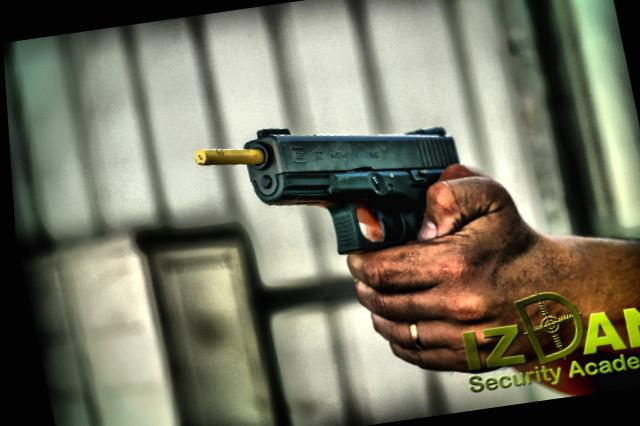pistol: (235, 105, 472, 268)
